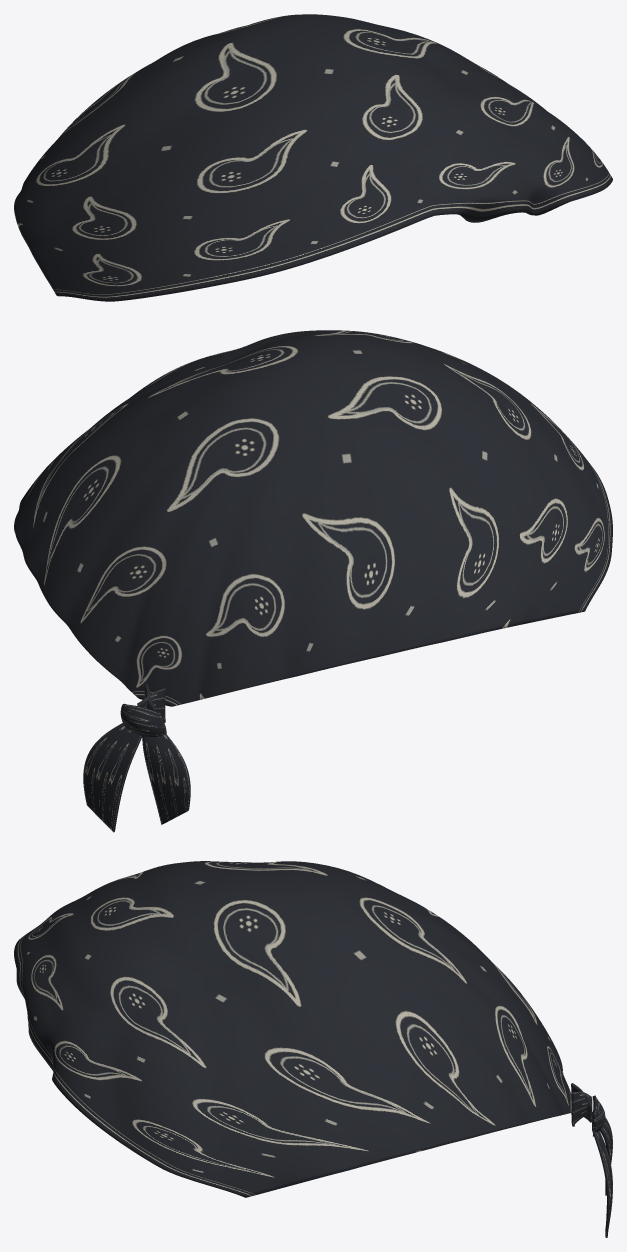
Rendered from Feminine-straight-bandana.glb.
3 renders of one model, top to bottom at view 1: azimuth 30°, elevation 25°; view 2: azimuth 150°, elevation 25°; view 3: azimuth 270°, elevation 25°, orthographic.
Parts seen in each view (by area): view 1: Bandana / triangular crown scarf; view 2: Bandana / triangular crown scarf, Bandana / hemmed tail 1, Bandana / hemmed tail -1, Bandana / rounded knot fold; view 3: Bandana / triangular crown scarf, Bandana / hemmed tail 1.
Boxes of the visible parts, x1,y1,x2,y2 form: Bandana / triangular crown scarf: (14,14,612,301); Bandana / triangular crown scarf: (14,330,612,706); Bandana / hemmed tail 1: (83,723,141,832); Bandana / hemmed tail -1: (142,734,190,824); Bandana / rounded knot fold: (120,703,166,737); Bandana / triangular crown scarf: (14,861,572,1197); Bandana / hemmed tail 1: (592,1120,612,1237).
Size of the model in its own units: 0.7573 by 0.4669 by 0.7445.
1 material, 1 textured.
